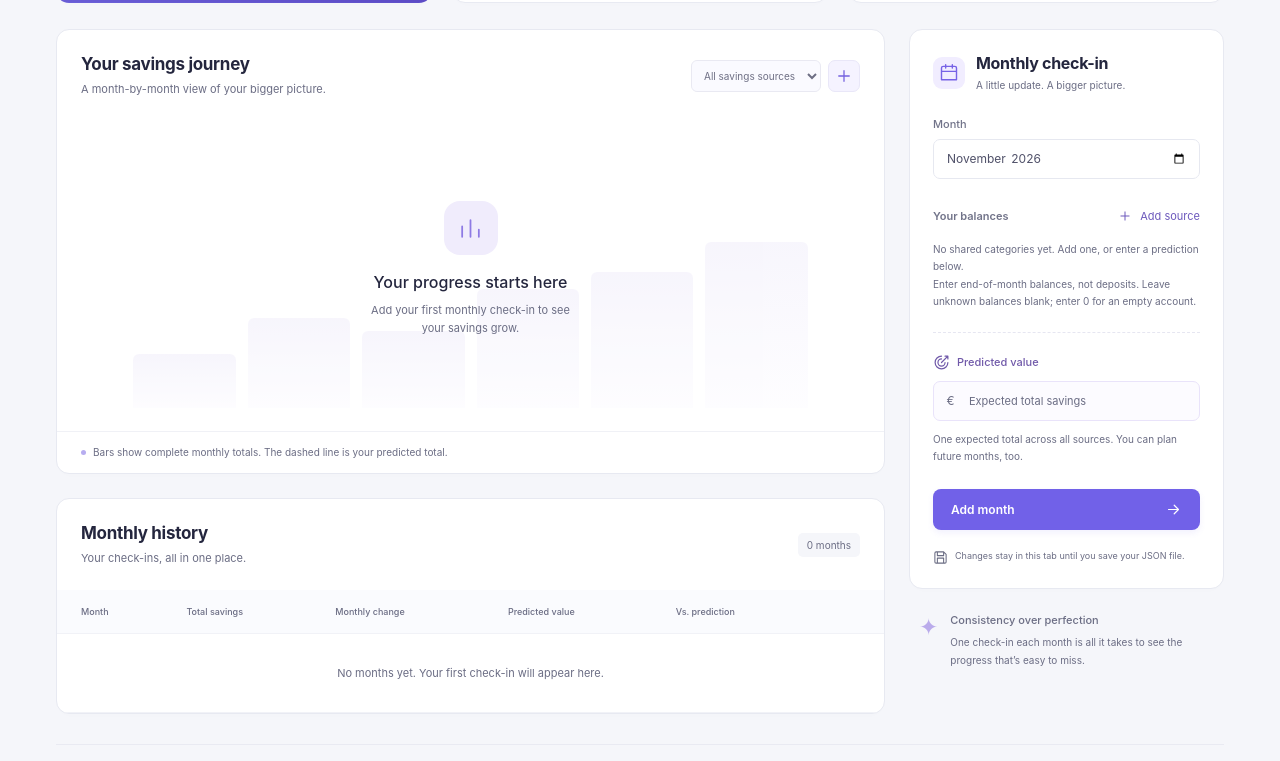
savings dashboard › preserves drafts when adding a source and prevents saving unapplied values
(page scrolled)
Type "500" into the field labelled "Predicted value".
click(1066, 401); type("500")  # box left=933, top=381, right=1200, bottom=421
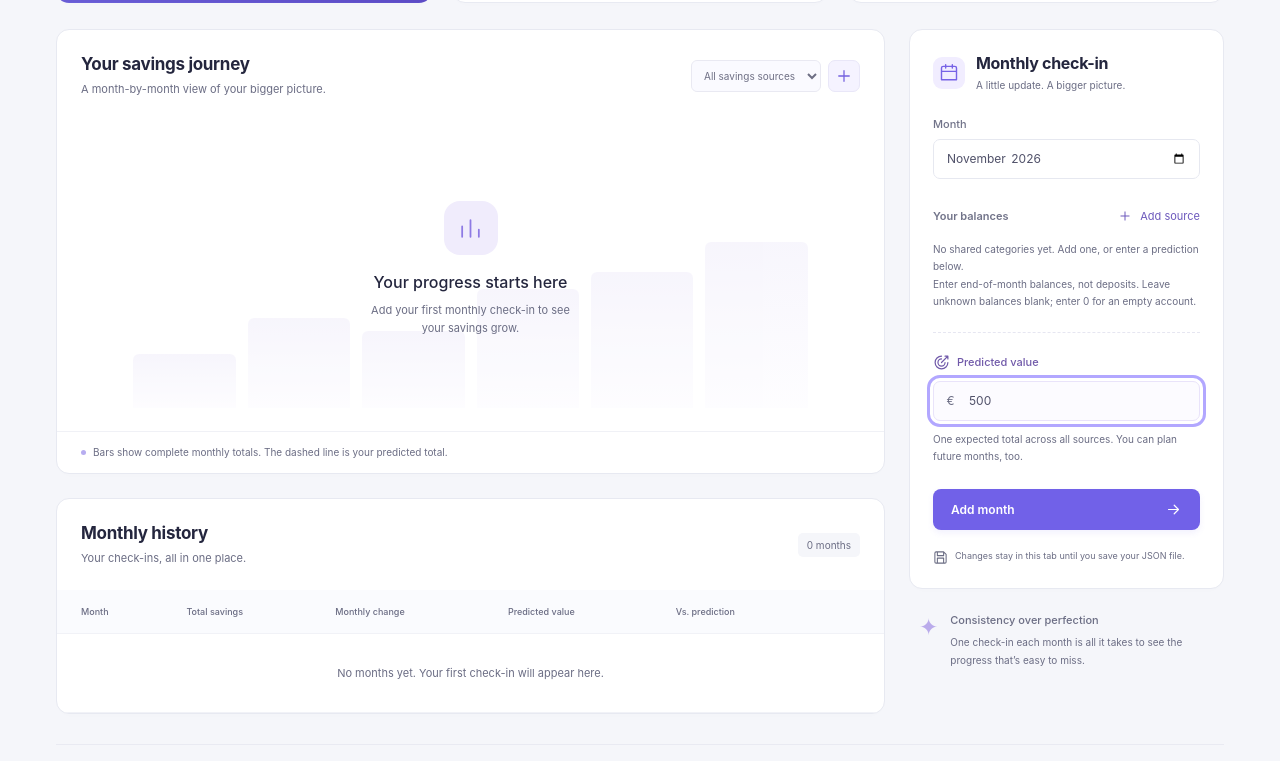
Click the button named "Add savings source".
click(844, 76)  # box left=828, top=60, right=860, bottom=92
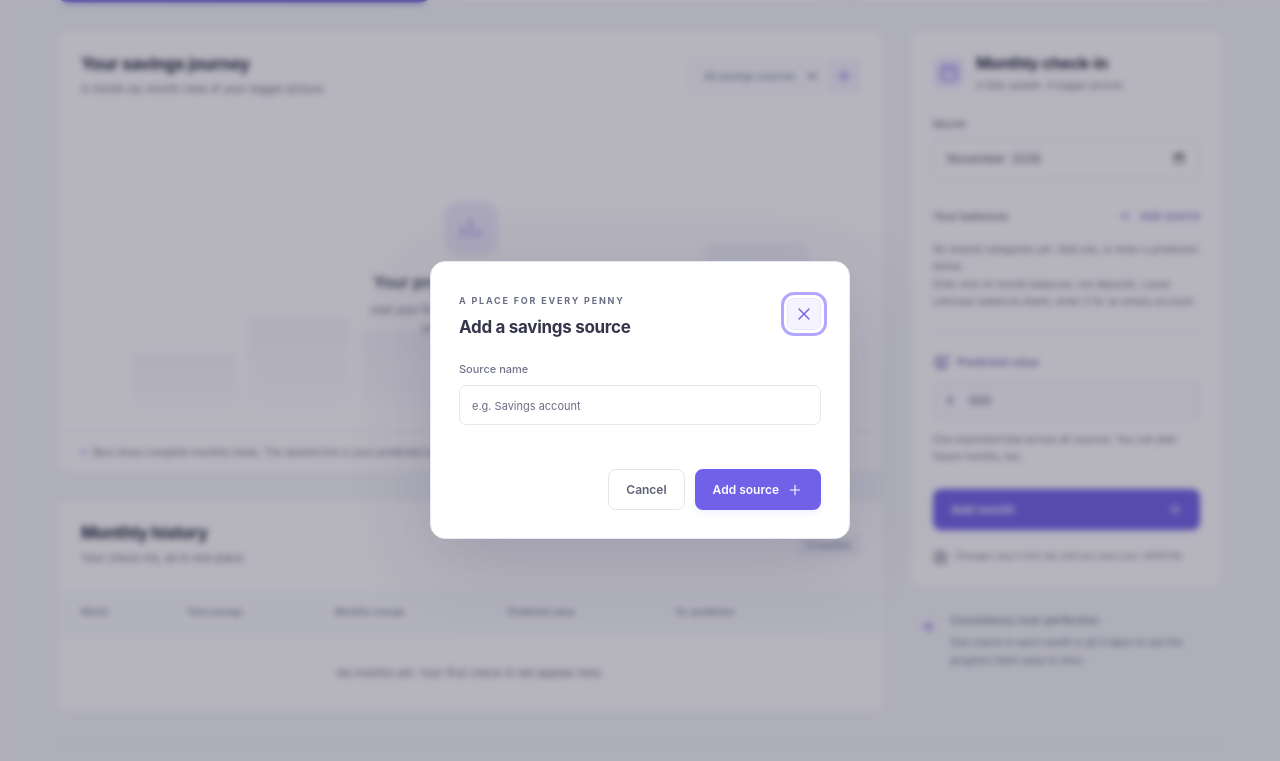
Type "Cash" into the field labelled "Source name".
click(640, 405); type("Cash")  # box left=459, top=385, right=821, bottom=425
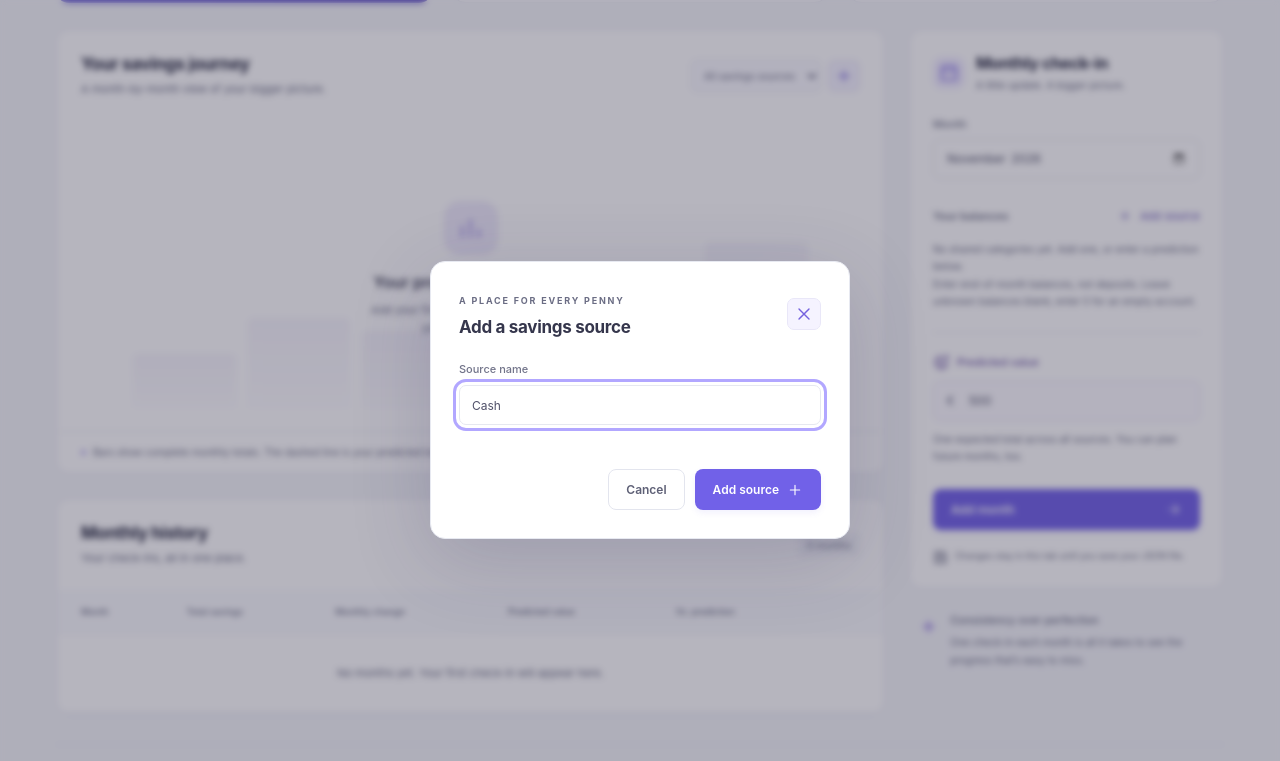
Click the button "Add source".
click(758, 490)  # box left=695, top=469, right=821, bottom=510
(page scrolled)
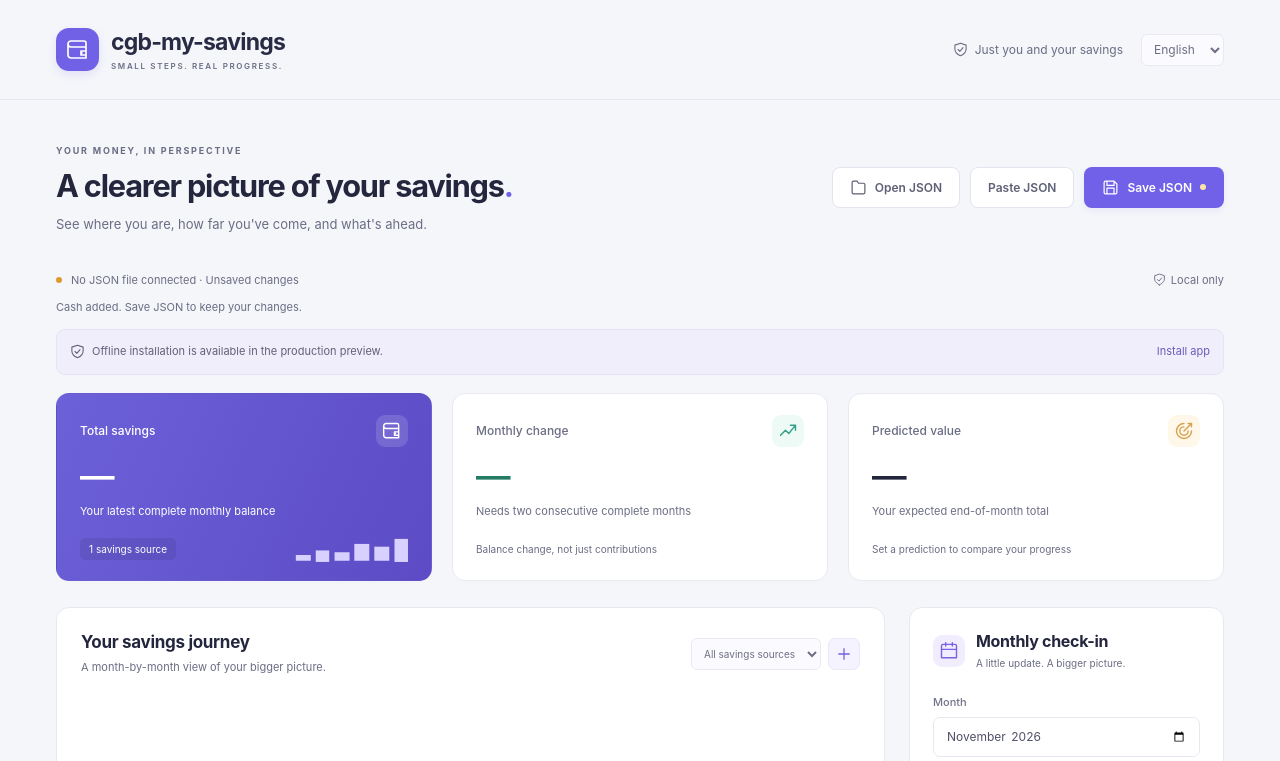
Click the button "Save JSON".
click(1154, 187)  # box left=1084, top=167, right=1224, bottom=208
(page scrolled)
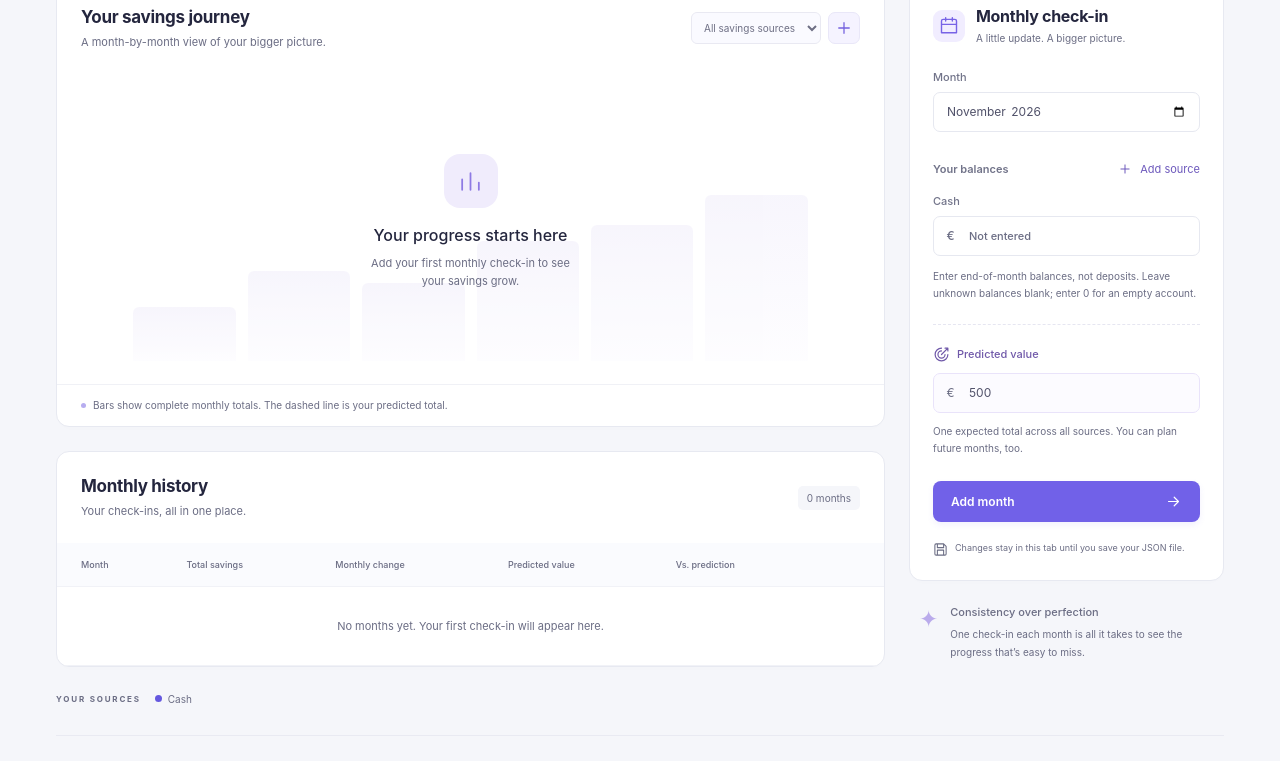
Click the button "Add month".
click(983, 501)  # box left=933, top=481, right=1200, bottom=522
(page scrolled)
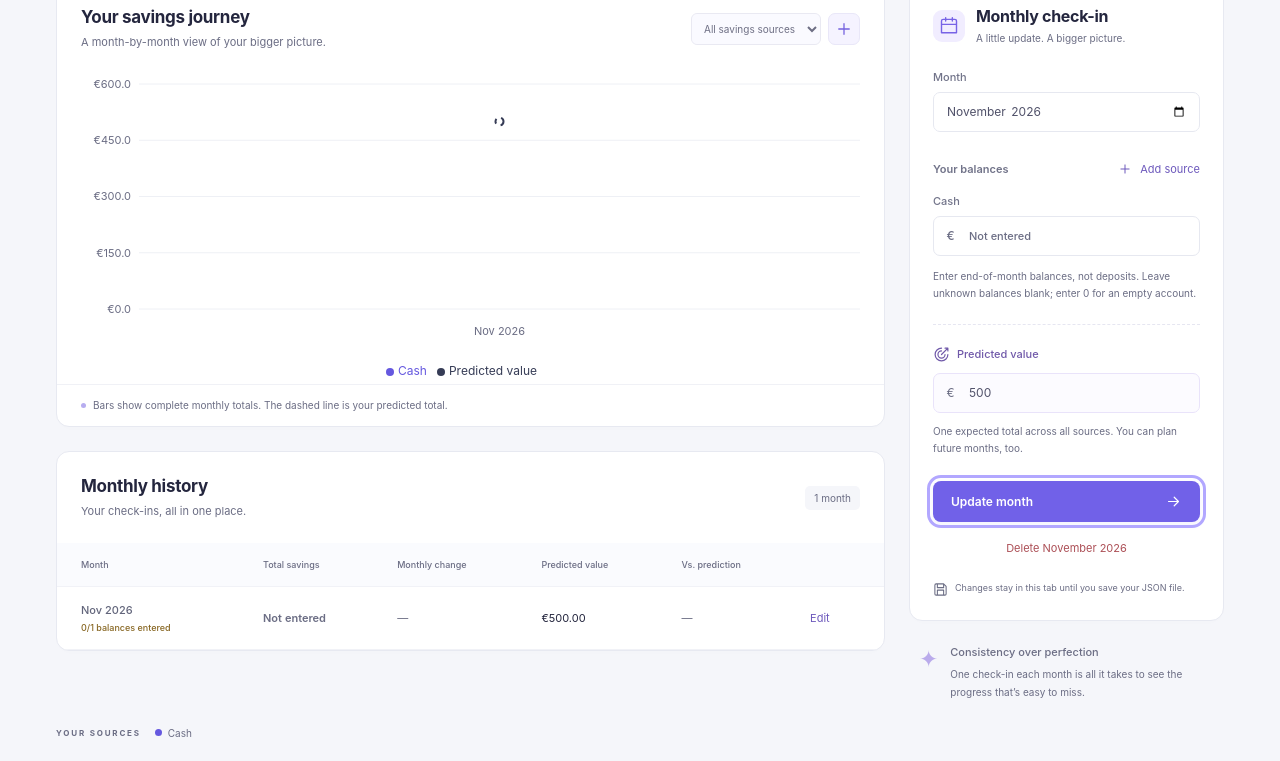
Expected: the text "0/1 balances entered" is shown, left=81, top=622, right=171, bottom=633
